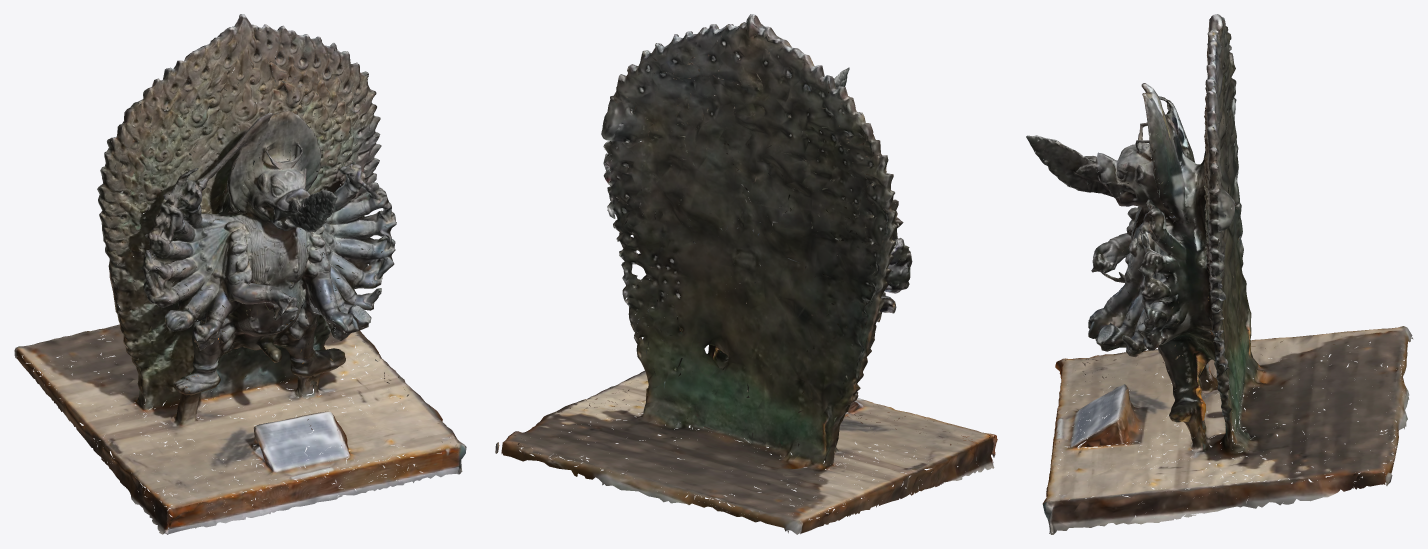
File: bhairava-hi.glb
3 renders of one model, left to right at view 1: azimuth 30°, elevation 25°; view 2: azimuth 150°, elevation 25°; view 3: azimuth 270°, elevation 25°, orthographic. The views are drawn at different scales.
Visible parts, largest first — view 1: Object_3, Object_4, Object_2, Object_5, Object_6, Object_7, Object_8; view 2: Object_2, Object_3, Object_4, Object_5, Object_7, Object_6, Object_8; view 3: Object_2, Object_4, Object_3, Object_7, Object_5, Object_8, Object_6.
Part boxes in pixels (x1,y1,x2,y2): Object_3: (104,19,427,533); Object_4: (15,36,466,480); Object_2: (14,47,430,506); Object_5: (97,14,408,534); Object_6: (97,14,387,497); Object_7: (109,47,465,525); Object_8: (14,42,379,450); Object_2: (504,43,989,534); Object_3: (501,22,996,491); Object_4: (501,34,932,534); Object_5: (670,14,997,489); Object_7: (495,45,993,490); Object_6: (671,14,910,303); Object_8: (525,43,921,531); Object_2: (1072,45,1412,497); Object_4: (1028,87,1413,534); Object_3: (1049,21,1399,522); Object_7: (1026,44,1392,533); Object_5: (1026,14,1238,467); Object_8: (1051,97,1405,459); Object_6: (1052,14,1236,452).
Size of the model in its own units: 2.99 by 4 by 3.12.
Materials: 1 (1 with a texture image).
